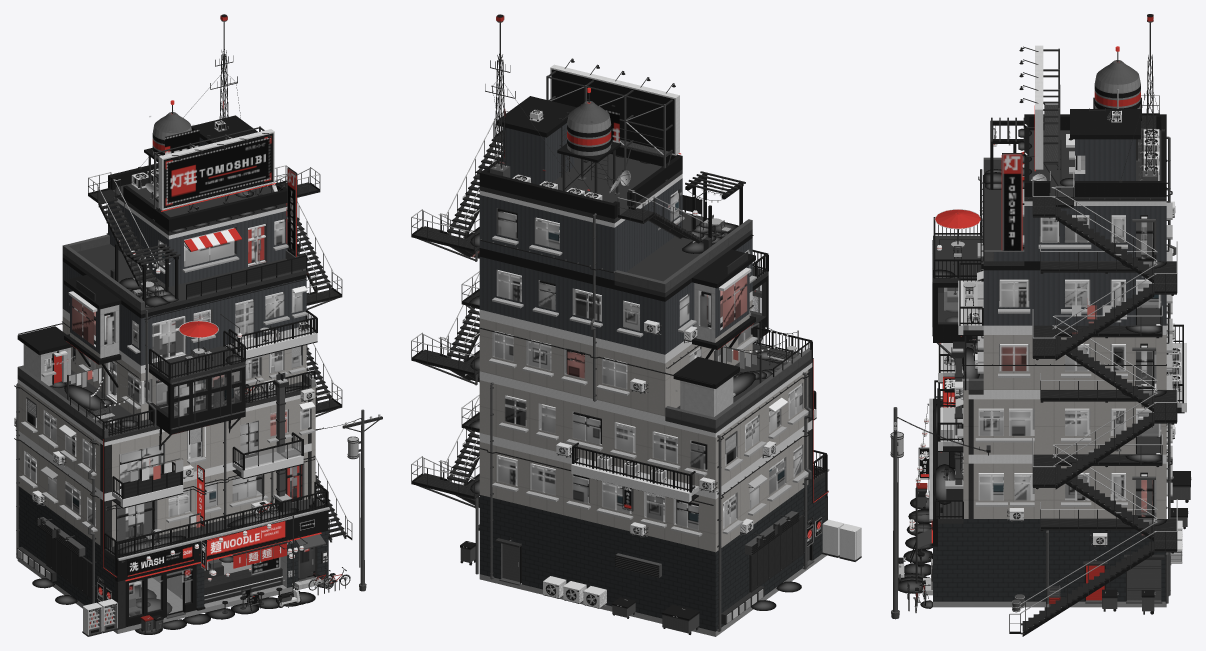
Rendered from tomoshibi-DheEESnA.glb.
3 views of the same model, side by side, from view 1: azimuth 30°, elevation 25°; view 2: azimuth 150°, elevation 25°; view 3: azimuth 270°, elevation 25° (orthographic). The views are drawn at different scales.
Parts seen in each view (by area): view 1: body, farBaked, glow, glass, add; view 2: body, farBaked, glow, add, glass; view 3: body, farBaked, add, glow, glass.
Part boxes in pixels (x1,y1,x2,y2): body: (14, 14, 382, 636); farBaked: (25, 15, 315, 600); glow: (23, 17, 327, 625); glass: (28, 222, 312, 629); add: (32, 190, 332, 634); body: (411, 14, 861, 636); farBaked: (462, 15, 823, 536); glow: (498, 17, 828, 618); add: (469, 155, 819, 610); glass: (499, 194, 809, 525); body: (890, 14, 1191, 636); farBaked: (979, 14, 1159, 535); add: (898, 128, 1166, 608); glow: (909, 17, 1152, 573); glass: (938, 218, 1151, 515).
Size of the model in its own units: 19.94 by 31.81 by 14.83.
Materials: 5 (5 with a texture image).
